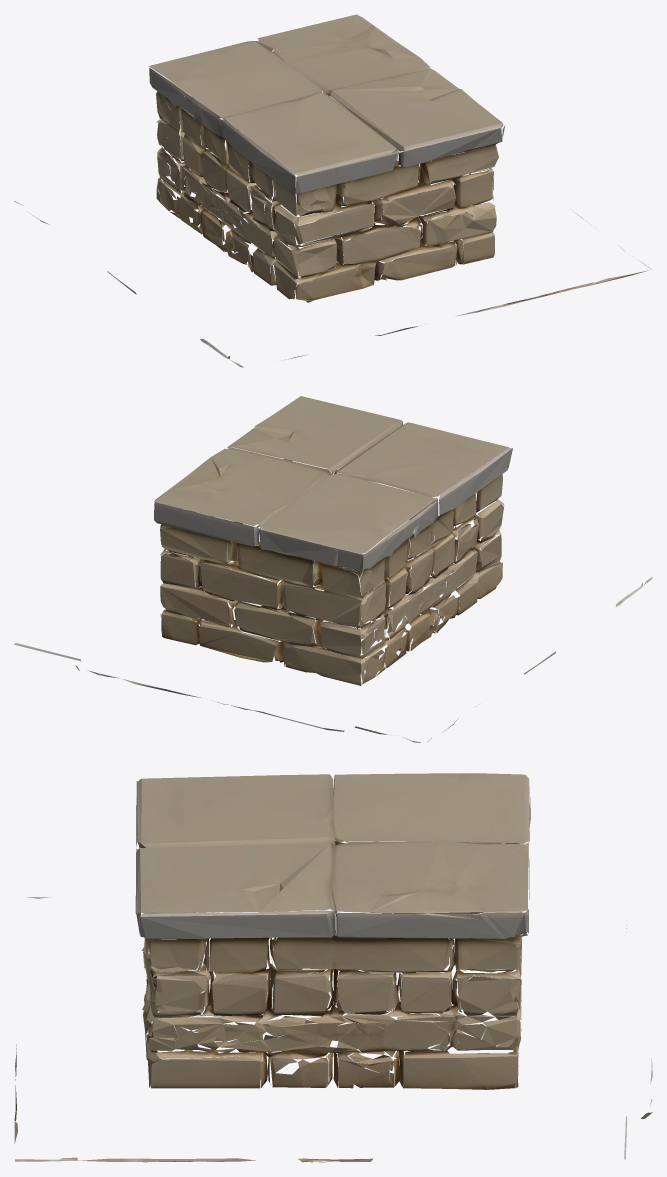
The model's file is wall.glb.
3 renders of one model, top to bottom at view 1: azimuth 30°, elevation 25°; view 2: azimuth 150°, elevation 25°; view 3: azimuth 270°, elevation 25°, orthographic. The views are drawn at different scales.
Visible parts, largest first — view 1: textured_mesh.obj; view 2: textured_mesh.obj; view 3: textured_mesh.obj.
Part boxes in pixels (box(x1,y1,x2,y2)): textured_mesh.obj: box(14, 14, 651, 367); textured_mesh.obj: box(14, 396, 652, 742); textured_mesh.obj: box(14, 773, 652, 1162).
Size of the model in its own units: 1.97 by 0.6623 by 1.99.
Materials: 1 (1 with a texture image).
